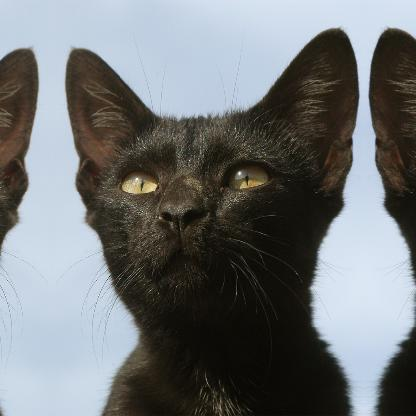Cat: (57, 26, 353, 416)
